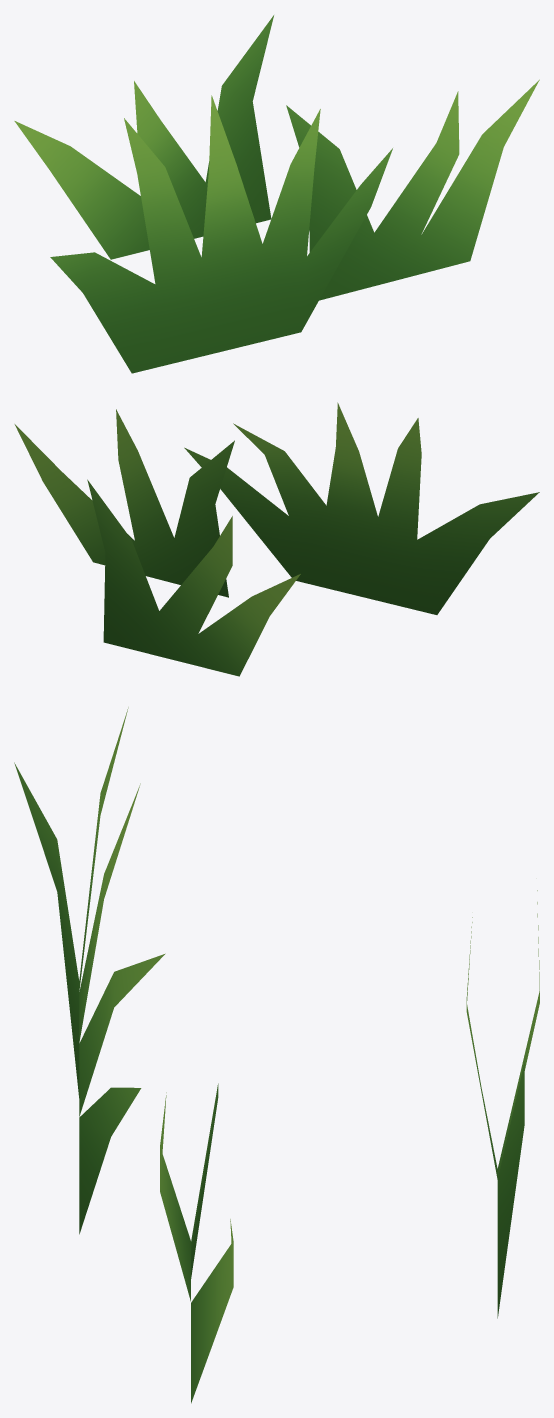
Rendered from rc_01_plt_06_03.FBX.
3 views of the same model, one above another, from view 1: azimuth 30°, elevation 25°; view 2: azimuth 150°, elevation 25°; view 3: azimuth 270°, elevation 25° (orthographic). The views are drawn at different scales.
Parts seen in each view (by area): view 1: rc_01_plt_06_02; view 2: rc_01_plt_06_02; view 3: rc_01_plt_06_02.
Boxes of the visible parts, <box> form: rc_01_plt_06_02: <box>14,15,539,373</box>; rc_01_plt_06_02: <box>14,402,539,676</box>; rc_01_plt_06_02: <box>14,707,539,1403</box>.
Bounding box in the file's own units: 373 × 186 × 160.
